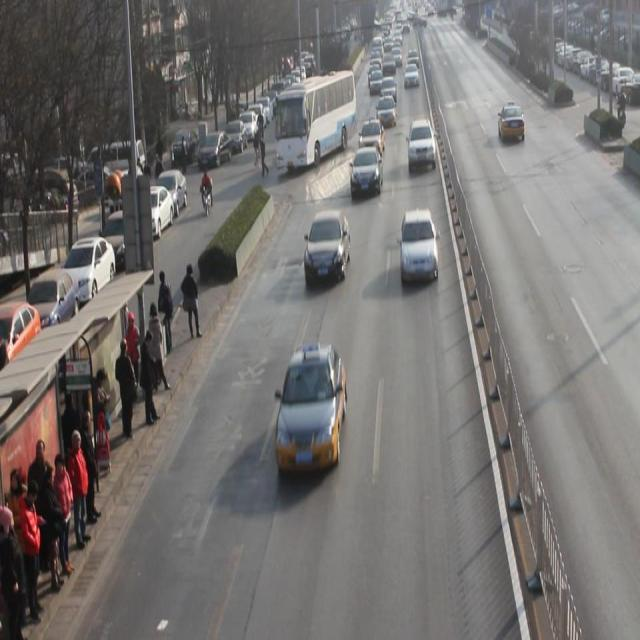car: (275, 348, 348, 473), (305, 213, 352, 285), (401, 211, 440, 284), (350, 150, 384, 201), (407, 121, 437, 176), (359, 120, 387, 161), (498, 106, 526, 145), (376, 98, 399, 131)
van: (276, 74, 356, 168)
